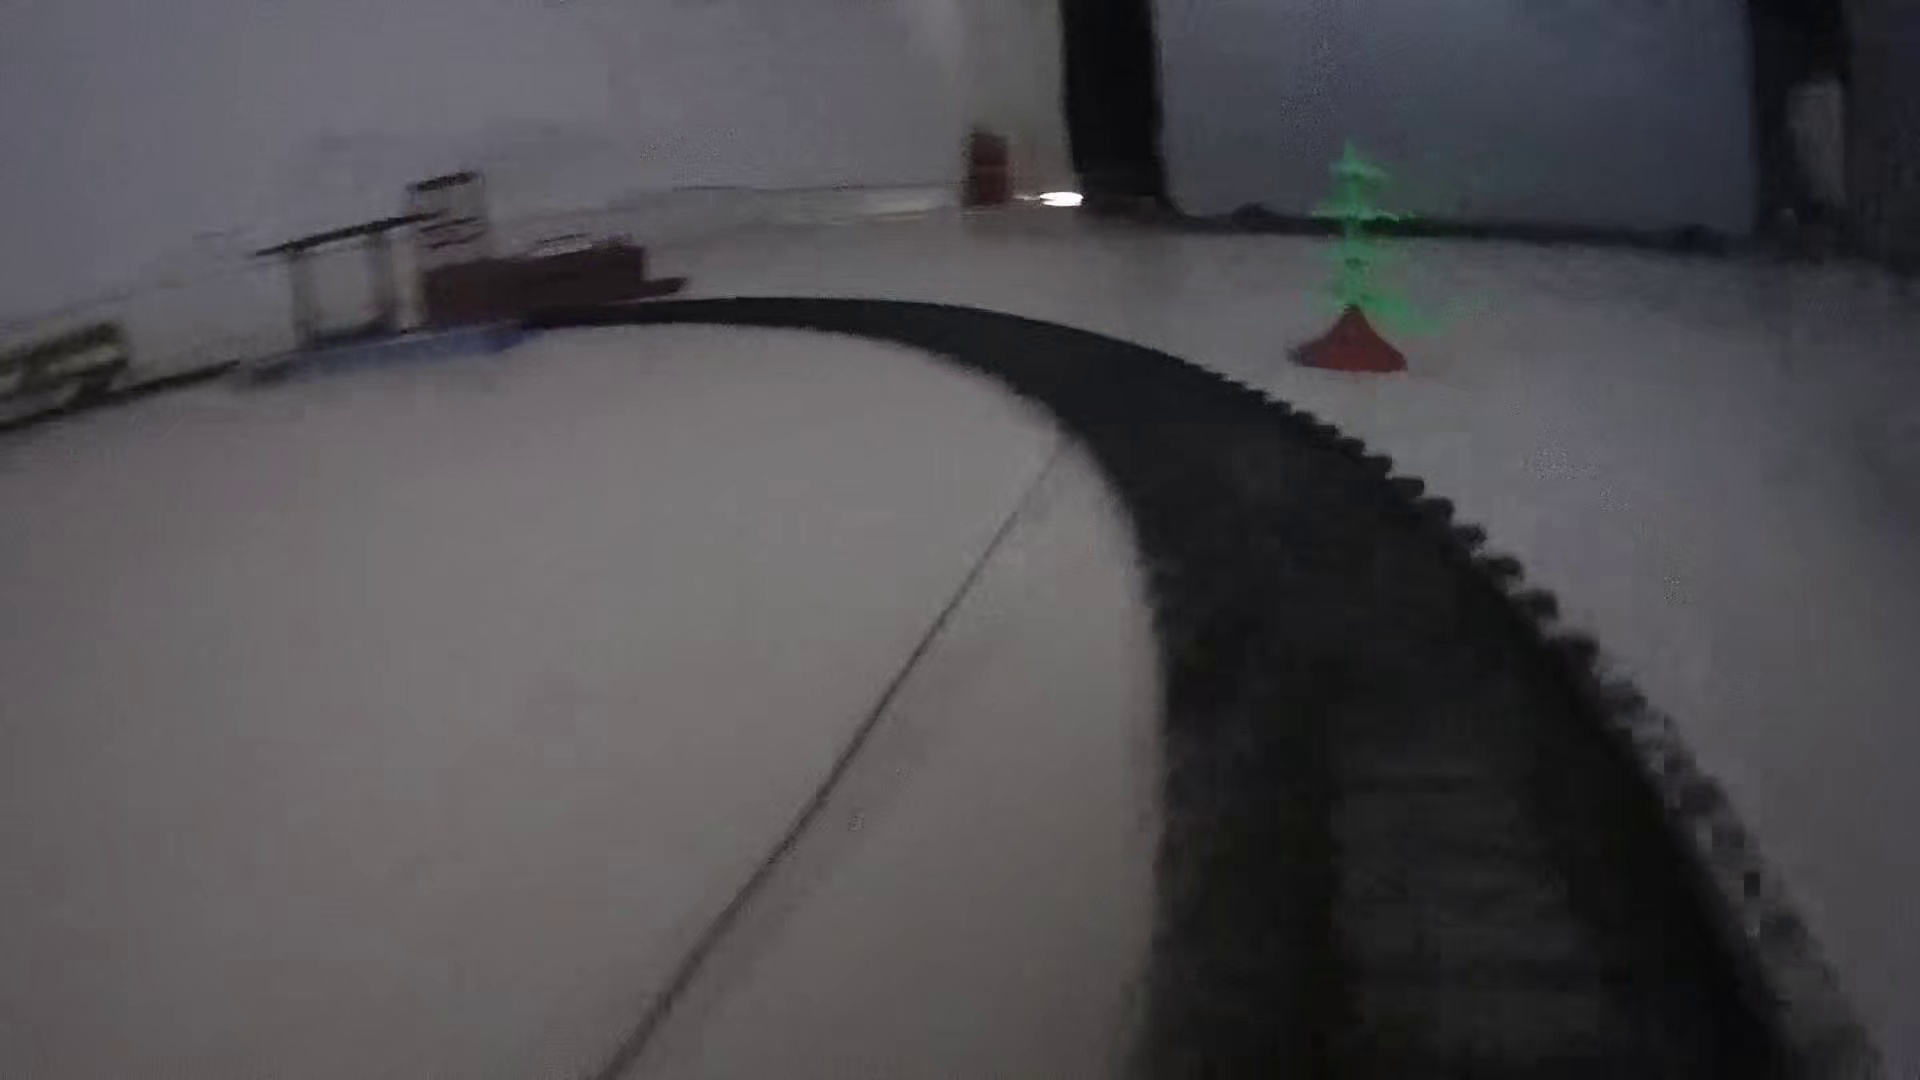tree: (1281, 131, 1416, 377)
